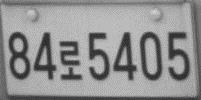0: (139, 30, 162, 81)
4: (112, 30, 137, 81), (32, 31, 57, 80)
5: (167, 30, 190, 81), (88, 32, 109, 80)
8: (7, 31, 30, 79)
로: (58, 39, 83, 80)
